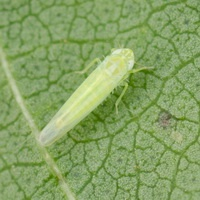insect: (38, 48, 133, 145)
